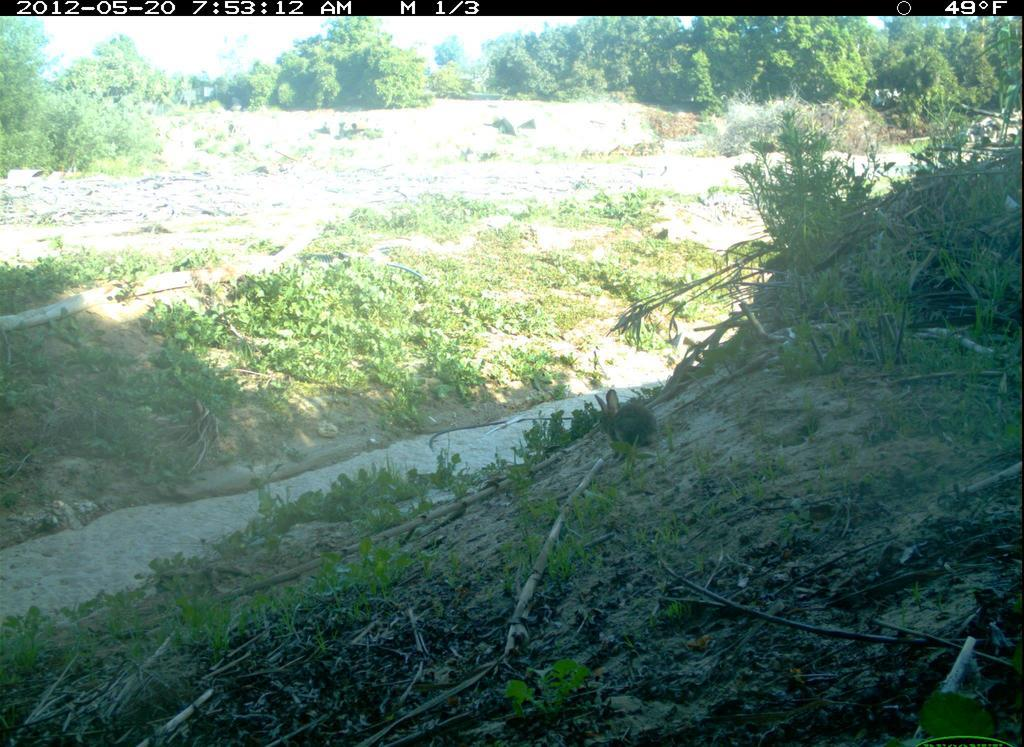rabbit: (588, 387, 665, 463)
